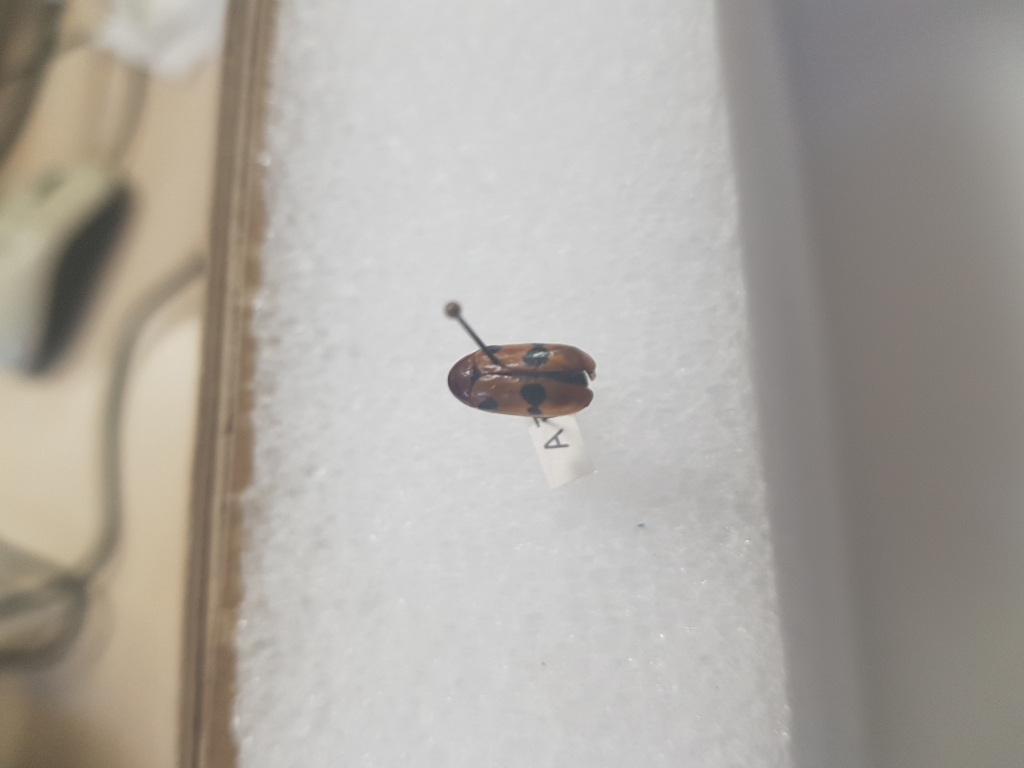Clytra_novempunctata: (447, 330, 609, 435)
